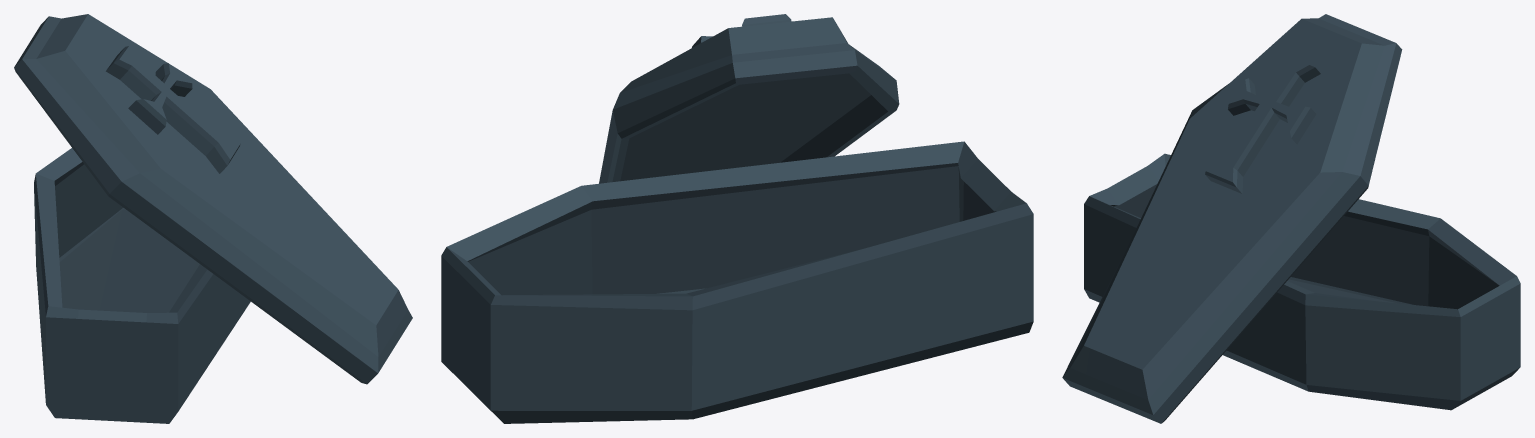
Rendered from Coffin_Leaning.fbx.
3 renders of one model, left to right at view 1: azimuth 30°, elevation 25°; view 2: azimuth 150°, elevation 25°; view 3: azimuth 270°, elevation 25°, orthographic. The views are drawn at different scales.
Visible parts, largest first — view 1: Coffin Leaning; view 2: Coffin Leaning; view 3: Coffin Leaning.
Part boxes in pixels (x1,y1,x2,y2): Coffin Leaning: (14, 14, 412, 423); Coffin Leaning: (441, 14, 1033, 423); Coffin Leaning: (1062, 14, 1520, 423).
Bounding box in the file's own units: 188 × 145 × 213.
